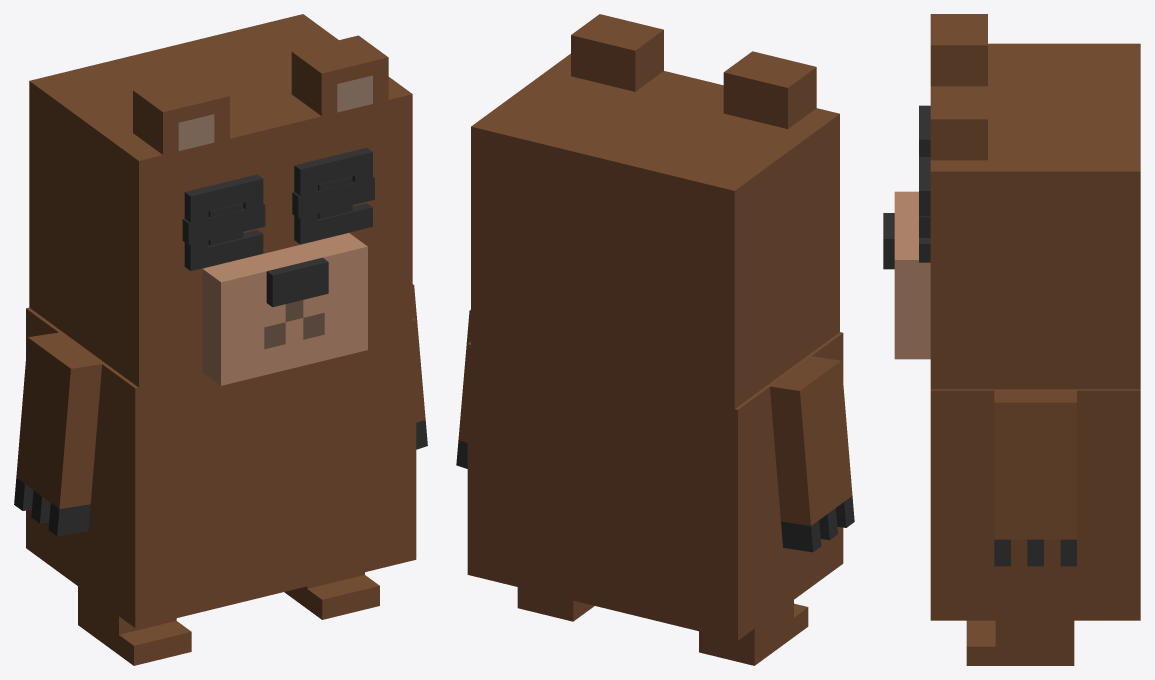
The picture shows the model from 3 angles, left to right: view 1: azimuth 30°, elevation 25°; view 2: azimuth 150°, elevation 25°; view 3: azimuth 270°, elevation 25°; orthographic projection. The views are drawn at different scales.
Parts seen in each view (by area): view 1: Ch_09_Head, Ch_09, Ch_09_Hand_L, Ch_09_Leg_L, Ch_09_Eye_03_L, Ch_09_Eye_03_R, Ch_09_Eye_02, Ch_09_Leg_R, Ch_09_Hand_R, Ch_09_Eye_01; view 2: Ch_09_Head, Ch_09, Ch_09_Hand_L, Ch_09_Leg_L, Ch_09_Leg_R, Ch_09_Hand_R; view 3: Ch_09_Head, Ch_09, Ch_09_Hand_R, Ch_09_Leg_R, Ch_09_Eye_03_R, Ch_09_Eye_03_L.
Part boxes in pixels (x1,y1,x2,y2): Ch_09_Head: [29, 14, 412, 387]; Ch_09: [26, 307, 416, 628]; Ch_09_Hand_L: [14, 332, 101, 536]; Ch_09_Leg_L: [78, 586, 191, 665]; Ch_09_Eye_03_L: [184, 174, 263, 270]; Ch_09_Eye_03_R: [294, 147, 372, 244]; Ch_09_Eye_02: [182, 177, 374, 244]; Ch_09_Leg_R: [284, 572, 379, 619]; Ch_09_Hand_R: [412, 284, 427, 449]; Ch_09_Eye_01: [208, 176, 352, 245]; Ch_09_Head: [471, 14, 839, 408]; Ch_09: [467, 332, 843, 640]; Ch_09_Hand_L: [770, 356, 854, 552]; Ch_09_Leg_L: [699, 600, 808, 665]; Ch_09_Leg_R: [517, 587, 594, 621]; Ch_09_Hand_R: [456, 309, 470, 468]; Ch_09_Head: [883, 14, 1140, 389]; Ch_09: [930, 389, 1140, 620]; Ch_09_Hand_R: [994, 390, 1076, 566]; Ch_09_Leg_R: [966, 620, 1074, 665]; Ch_09_Eye_03_R: [919, 157, 930, 262]; Ch_09_Eye_03_L: [919, 105, 930, 156].
Size of the model in its own units: 8.52 by 12.41 by 5.34.
